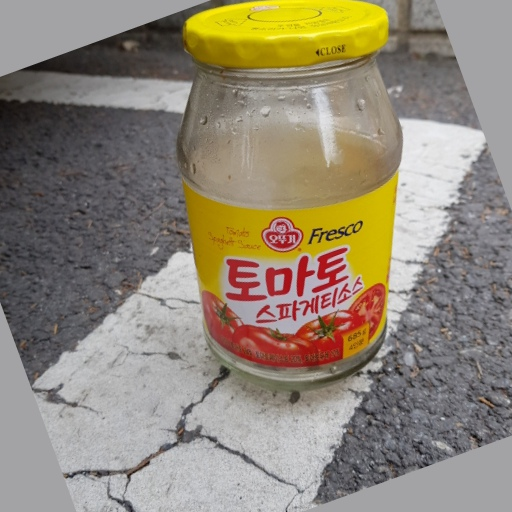Glass_5: (176, 1, 407, 389)
